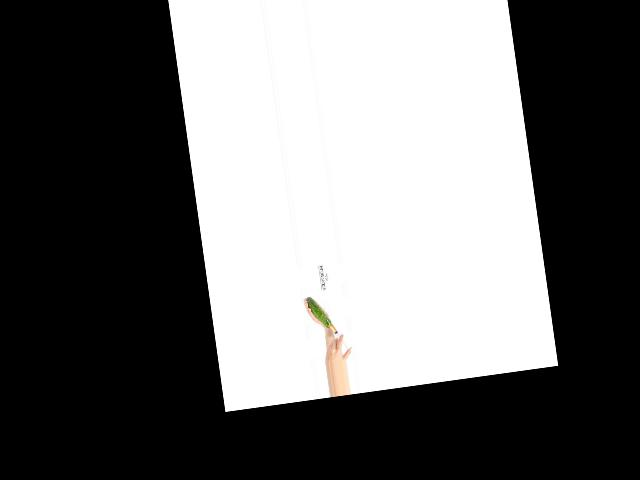cucumber: (306, 295, 332, 330)
